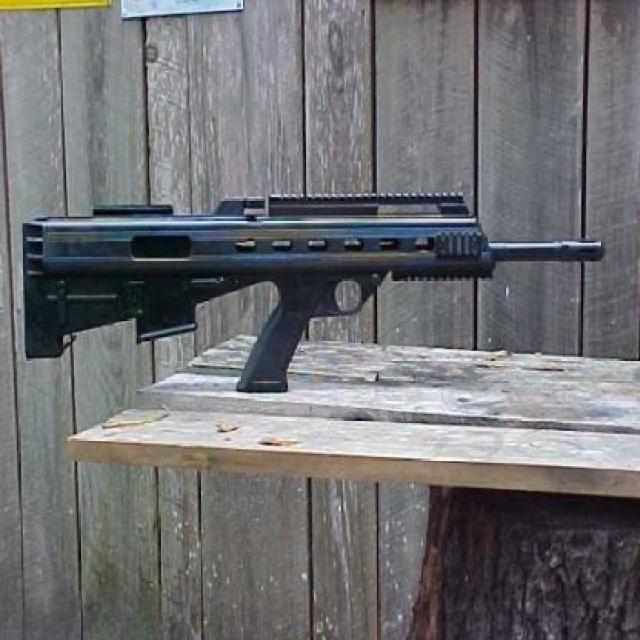Rifle: (0, 174, 626, 406)
